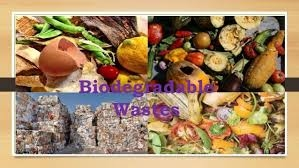kitchen_waste: (239, 29, 288, 88), (34, 35, 91, 78), (165, 60, 224, 95), (110, 35, 153, 72), (39, 13, 90, 43), (214, 23, 250, 53), (230, 118, 270, 139), (232, 94, 258, 118), (144, 22, 167, 46), (191, 30, 212, 51), (184, 49, 207, 67)
